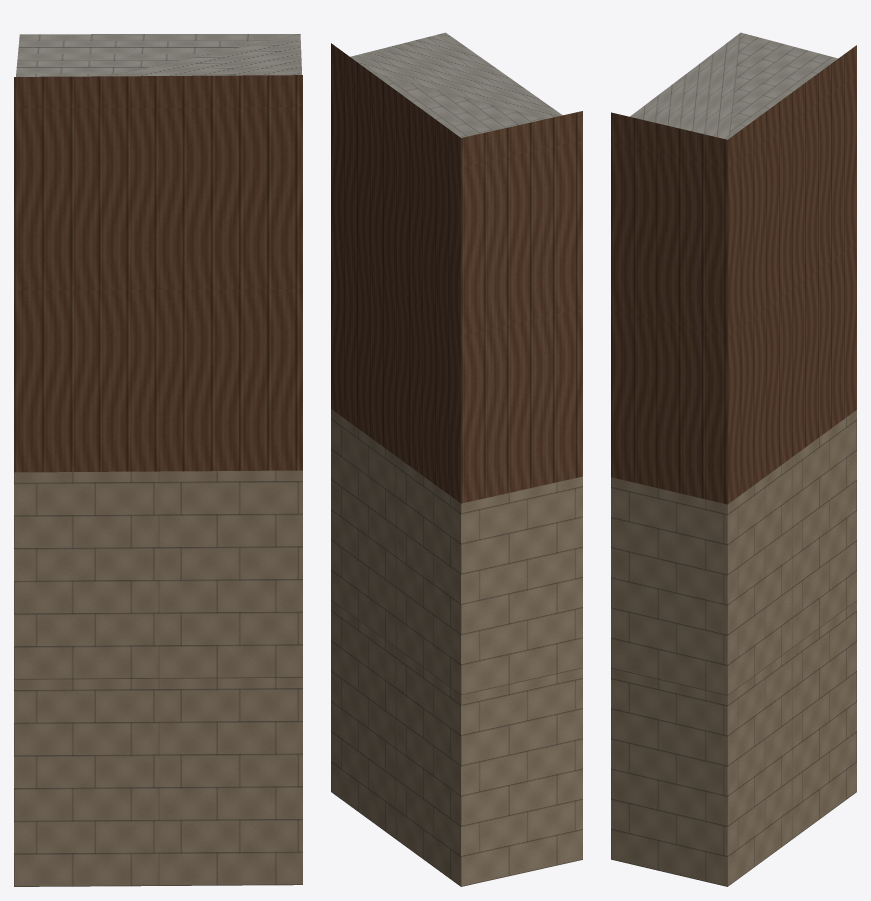
Rendered from bld_c15_23_409.gltf.
3 views of the same model, side by side, from view 1: azimuth 30°, elevation 25°; view 2: azimuth 150°, elevation 25°; view 3: azimuth 270°, elevation 25° (orthographic). The views are drawn at different scales.
Visible parts, largest first — view 1: bld_c15_23_409; view 2: bld_c15_23_409; view 3: bld_c15_23_409.
Part boxes in pixels (x1,y1,x2,y2): bld_c15_23_409: (14, 34, 302, 886); bld_c15_23_409: (331, 32, 582, 886); bld_c15_23_409: (611, 32, 856, 886).
Size of the model in its own units: 3.49 by 9.68 by 2.89.
Materials: 4 (4 with a texture image).
